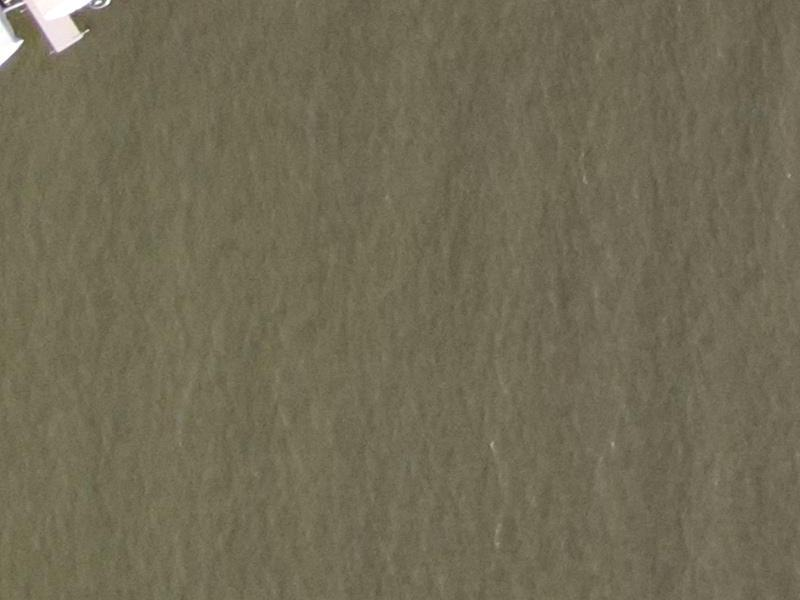boat: (0, 1, 96, 59)
lift: (0, 1, 114, 27)
